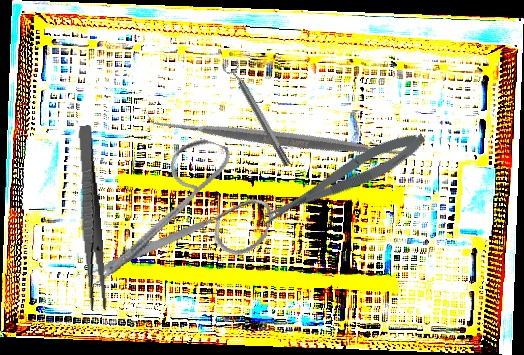Dressing Forceps: (72, 124, 109, 312)
Fixation Ring: (221, 58, 296, 171)
Iris Scissors: (85, 117, 290, 333)
Micro Scissor: (254, 123, 431, 233)
Spatula Surgical: (144, 0, 423, 277)
